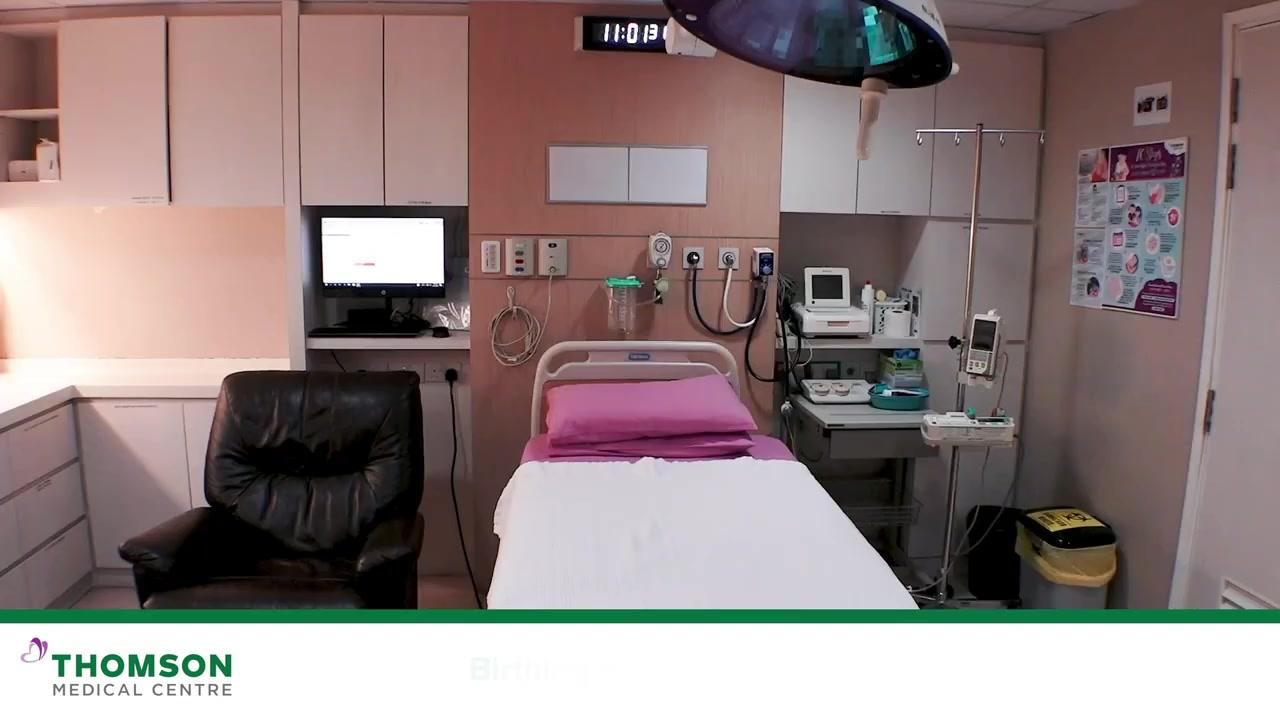bedside_monitor: (803, 271, 850, 305)
cabinet: (1, 13, 280, 207), (783, 26, 1047, 223), (295, 11, 469, 211)
computer: (314, 214, 450, 297)
counter: (1, 343, 302, 628)
countertop: (1, 351, 294, 418)
handle: (17, 412, 67, 434), (42, 532, 72, 554), (112, 401, 162, 413), (29, 479, 62, 494), (960, 223, 989, 237), (127, 194, 171, 203), (960, 205, 987, 219), (404, 195, 433, 207), (877, 205, 904, 217)
hospital_bed: (485, 339, 918, 608)
infusion_pump: (962, 309, 1005, 388)
iv_pole: (915, 118, 1046, 606)
keyboard: (308, 325, 424, 339)
mouse: (430, 326, 453, 338)
sofa: (118, 367, 427, 606)
surgical_light: (657, 1, 956, 162)
syringe_pump: (917, 411, 1023, 455)
waste_bin: (1015, 504, 1118, 610), (965, 501, 1027, 604)
